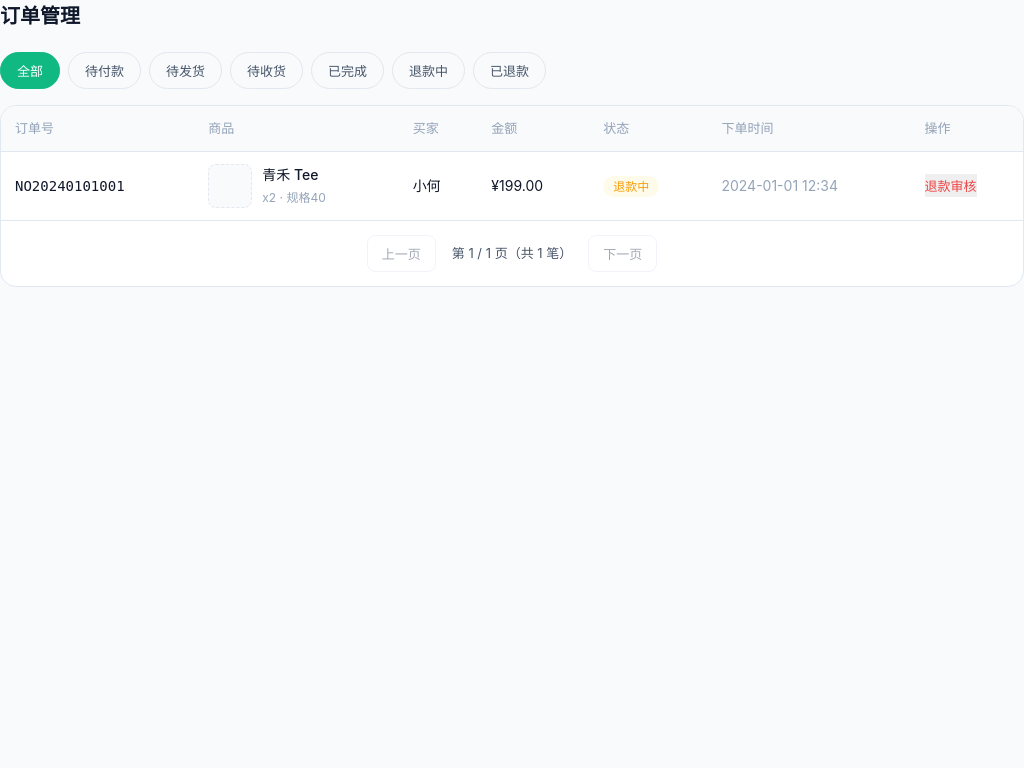
Test case: merchant/Orders 订单管理 › 退款审核弹窗（P2-18） › 打开退款审核弹窗展示待审核申请
Click the button with class "link-btn": x=950, y=186 [924, 174, 976, 197]
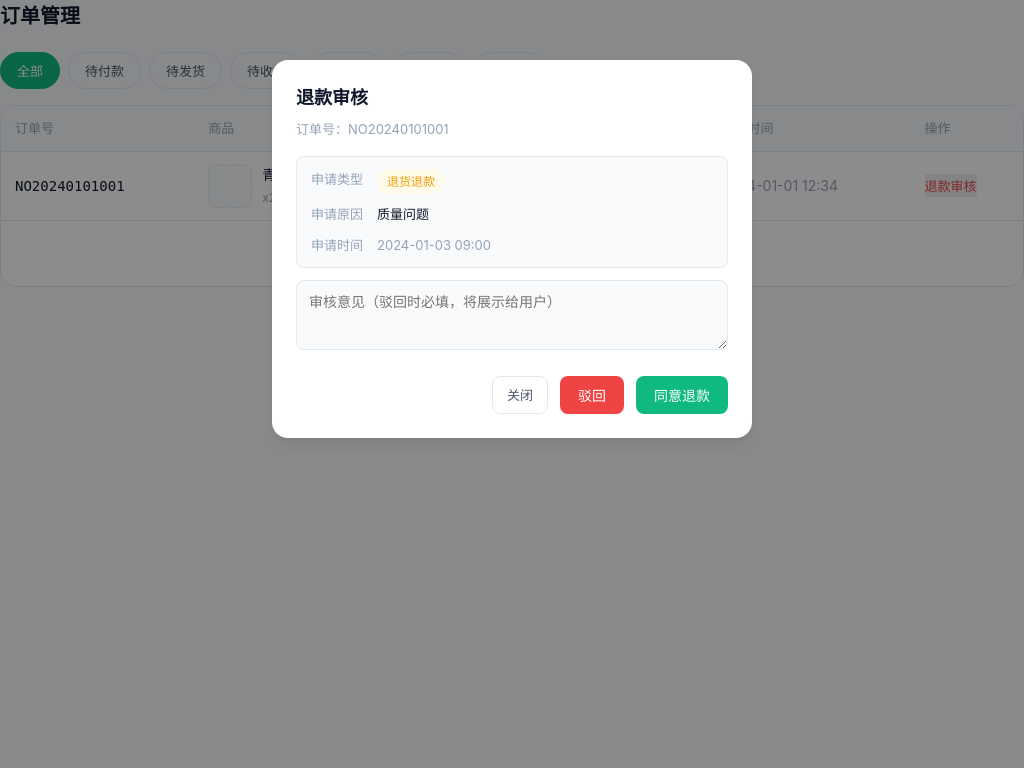
Now the heading with class "modal-title" reads "退款审核", box [296, 87, 368, 108]
Now the text "退货退款" is shown, box [377, 169, 445, 194]
Now the text "质量问题" is shown, box [377, 204, 429, 225]
